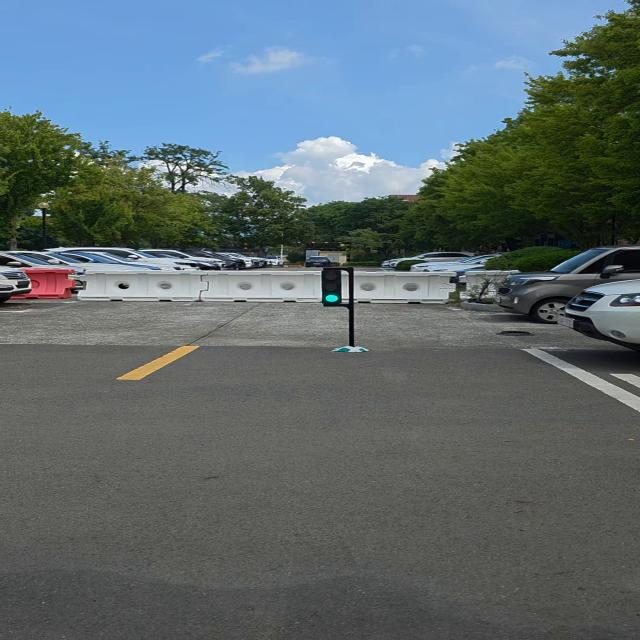green: (320, 268, 345, 308)
